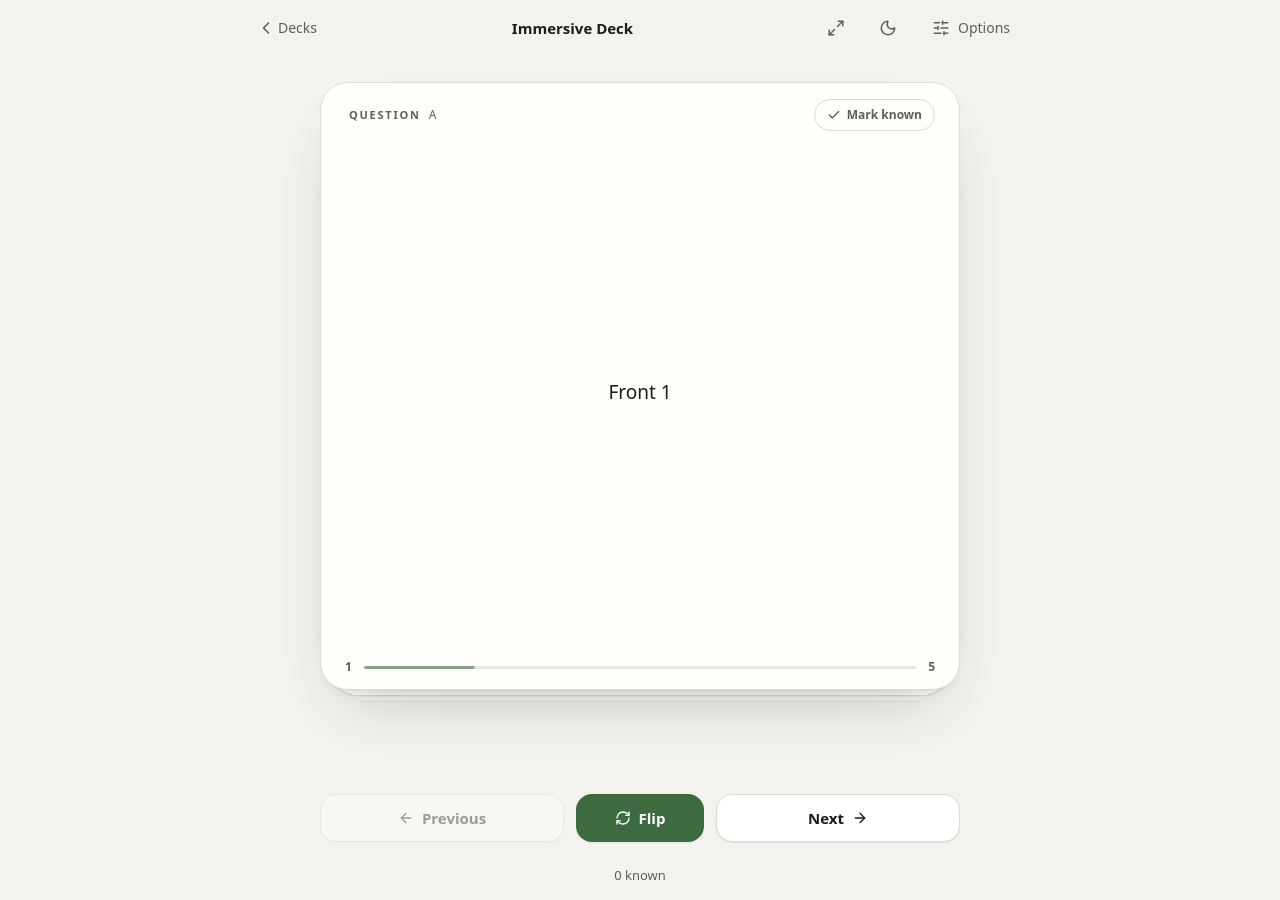
Scenario: immersive mode › is left with Escape
Click the button named "Full screen". click: (836, 28)
box: [814,6,858,50]
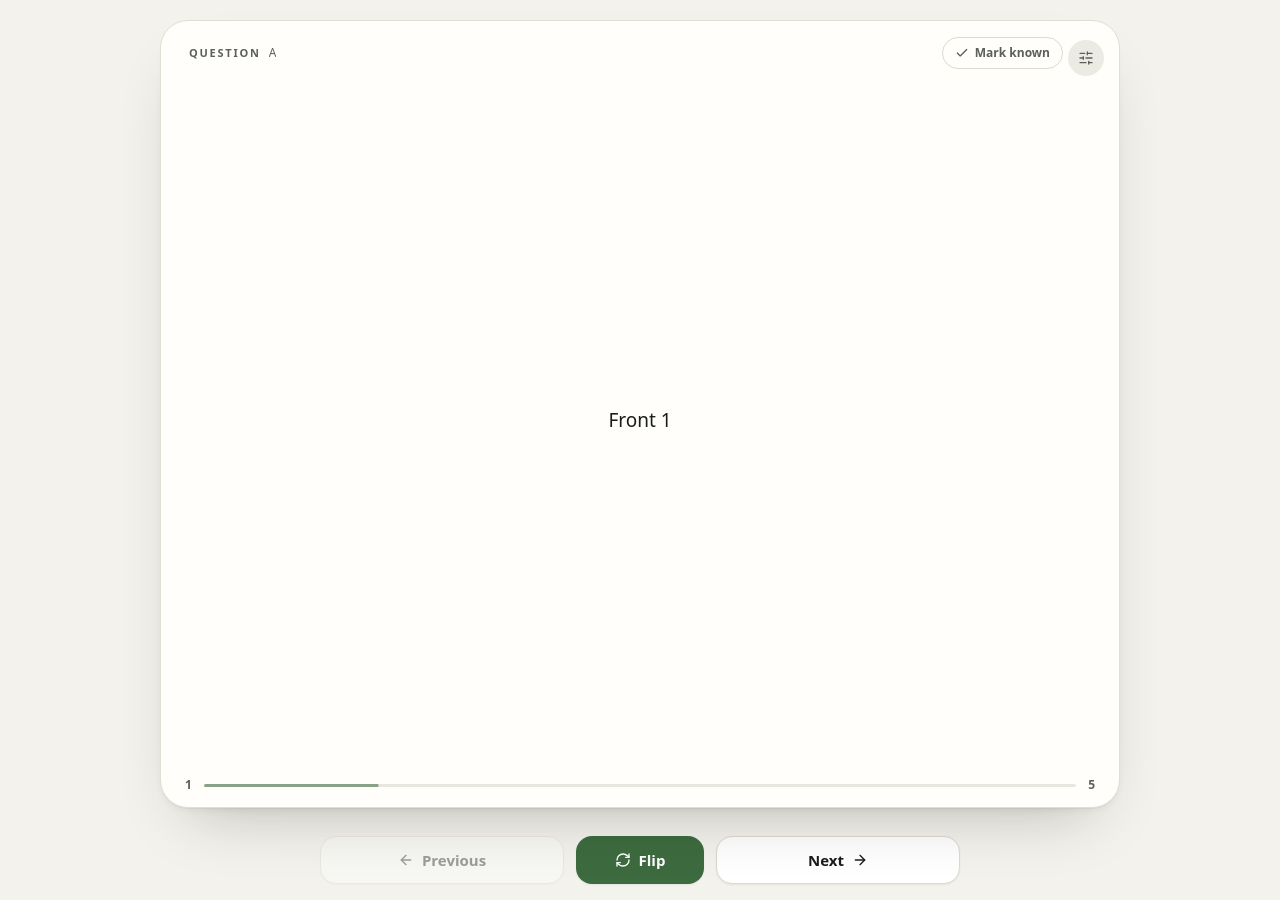
Press Escape
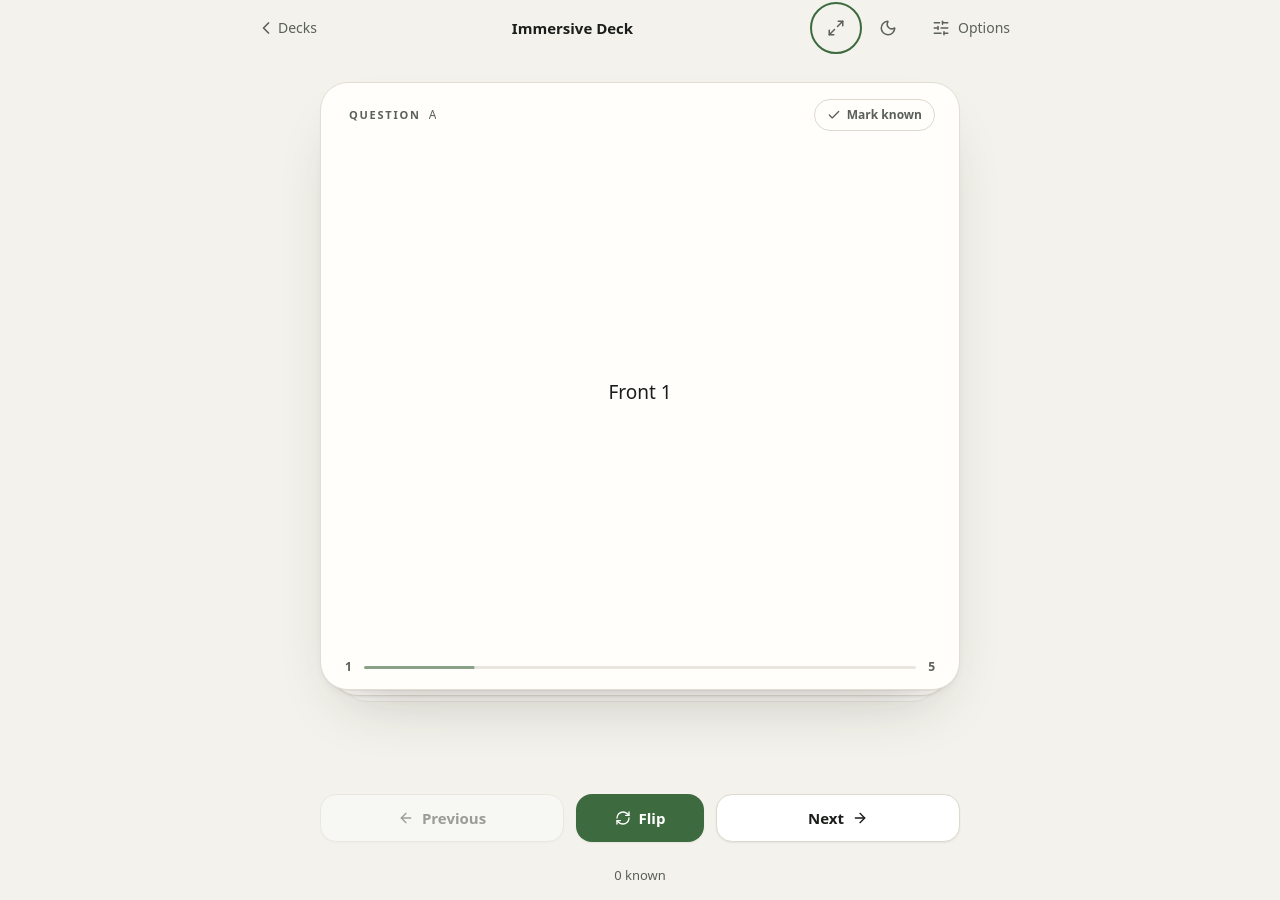
expect the header is shown: met, box [256,0,1024,58]
